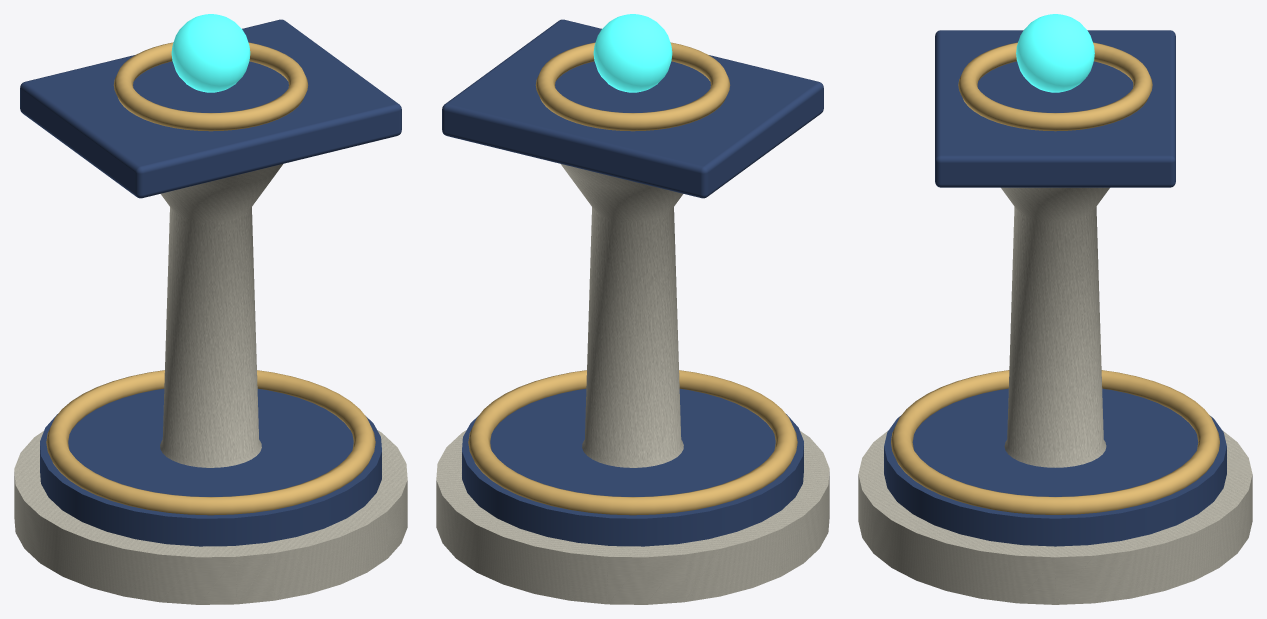
File: arcane-academy-and-spell-trials-spell-focus-lectern-43e438ea__28292.glb
The picture shows the model from 3 angles, left to right: view 1: azimuth 30°, elevation 25°; view 2: azimuth 150°, elevation 25°; view 3: azimuth 270°, elevation 25°; orthographic projection.
Visible parts, largest first — view 1: spell-focus-lectern; view 2: spell-focus-lectern; view 3: spell-focus-lectern.
Part boxes in pixels (x1=…): spell-focus-lectern: x1=14, y1=14, x2=407, y2=604; spell-focus-lectern: x1=436, y1=14, x2=829, y2=604; spell-focus-lectern: x1=858, y1=14, x2=1252, y2=604.
Bounding box in the file's own units: 0.9 × 1.27 × 0.9.
4 materials, 1 textured.
